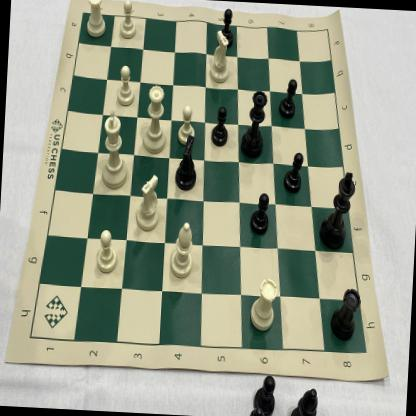bishop: (167, 218, 196, 280)
king: (315, 166, 356, 252), (98, 108, 132, 192)
knight: (134, 173, 164, 234), (172, 134, 202, 192), (207, 27, 232, 84)
pawn: (92, 224, 119, 274), (247, 189, 272, 236), (174, 100, 198, 146), (281, 150, 304, 197), (208, 105, 231, 149), (115, 62, 137, 108), (214, 5, 236, 50), (116, 0, 140, 41), (278, 78, 298, 122)
queen: (239, 85, 269, 162), (141, 82, 169, 156)
rook: (326, 284, 364, 345), (245, 272, 279, 333), (82, 0, 112, 44)
